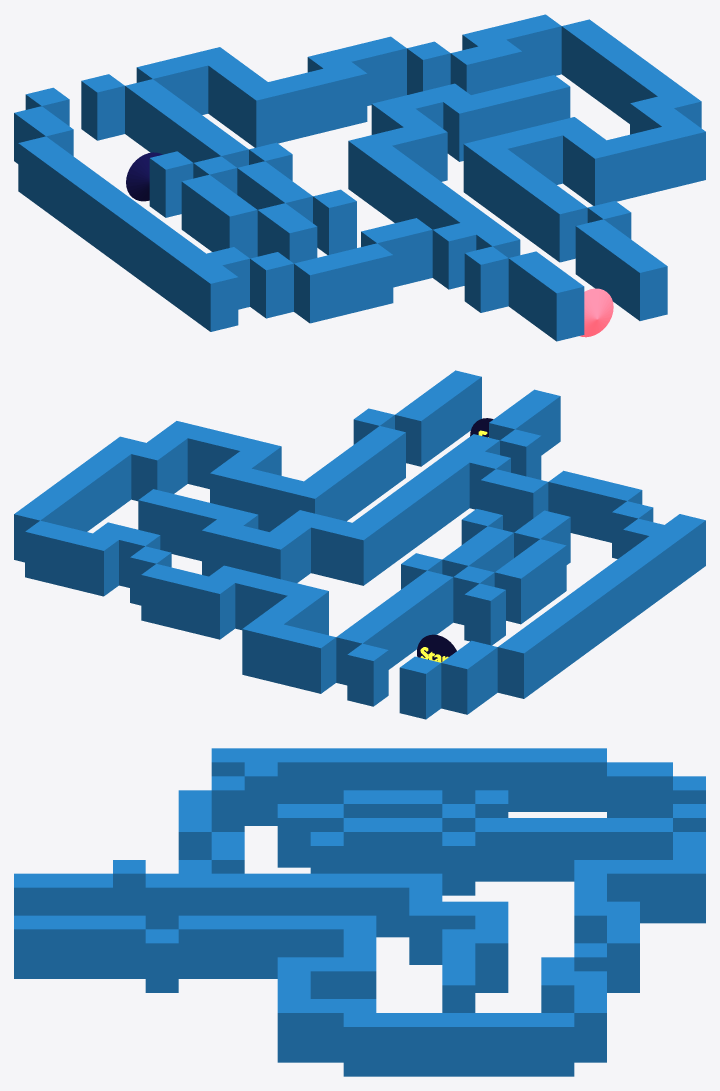
Rendered from level1.fbx.
3 views of the same model, one above another, from view 1: azimuth 30°, elevation 25°; view 2: azimuth 150°, elevation 25°; view 3: azimuth 270°, elevation 25° (orthographic). The views are drawn at different scales.
Visible parts, largest first — view 1: Plane.001; view 2: Plane.001; view 3: Plane.001.
Part boxes in pixels (x1=…): Plane.001: x1=14, y1=14, x2=705, y2=341; Plane.001: x1=14, y1=370, x2=705, y2=719; Plane.001: x1=14, y1=748, x2=705, y2=1076.
Bounding box in the file's own units: 1420 × 173 × 1491.
